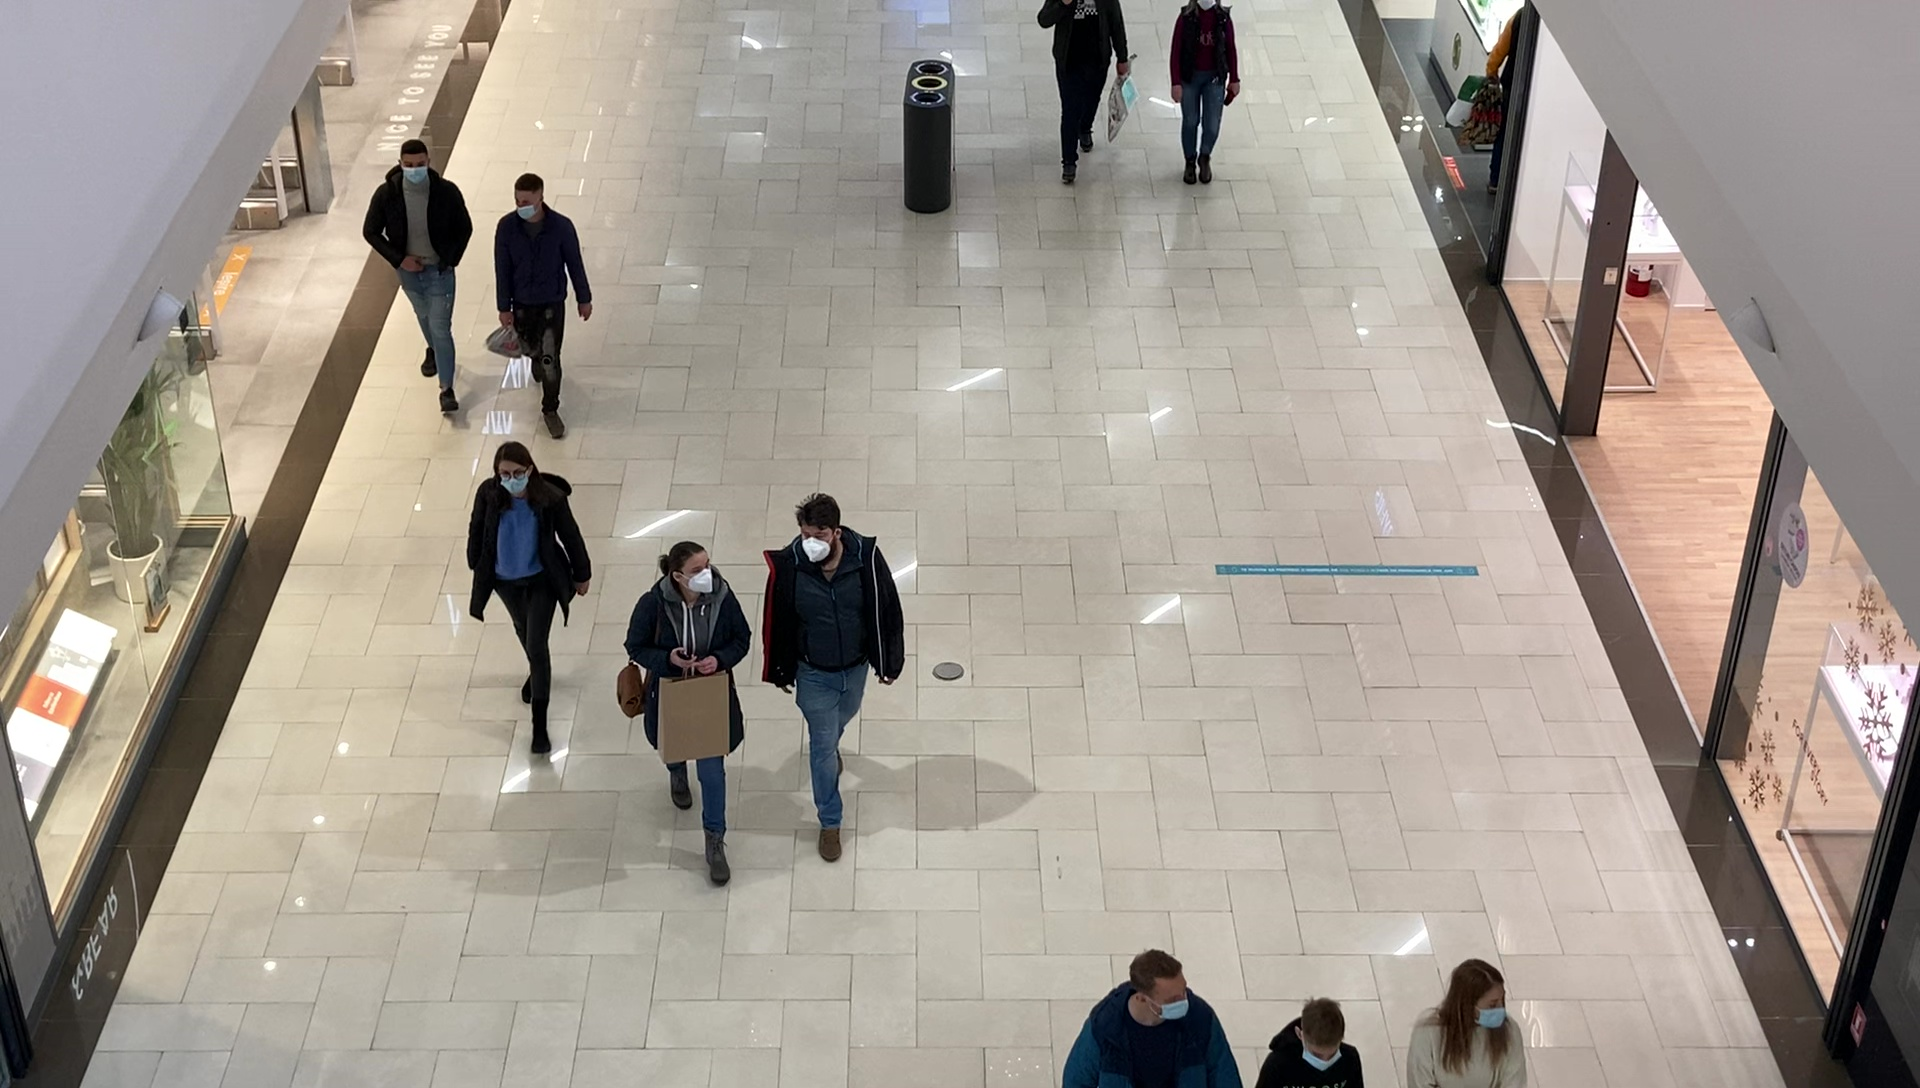person: (761, 492, 905, 864), (626, 541, 753, 888), (461, 442, 594, 757), (364, 140, 473, 415), (494, 174, 596, 442), (1060, 951, 1242, 1088), (1036, 1, 1137, 185), (1406, 959, 1527, 1088), (1171, 1, 1242, 184), (1254, 996, 1364, 1088)
